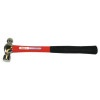hammer: (2, 37, 99, 63)
